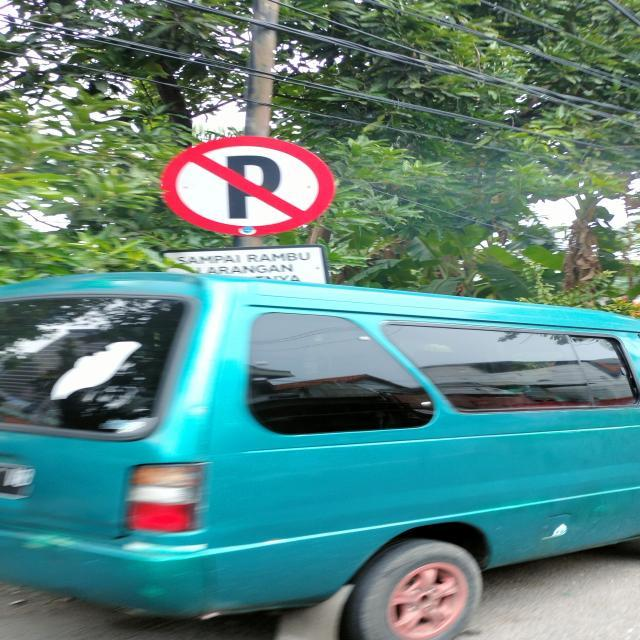Dilarang Parkir: (156, 134, 338, 237)
